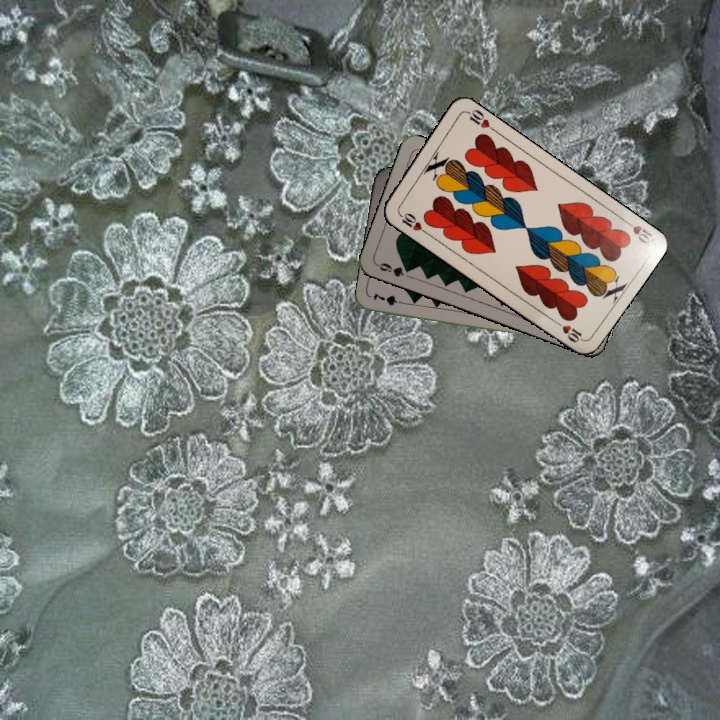G7: (369, 290, 410, 308)
G9: (373, 259, 414, 280)
H10: (619, 214, 655, 247), (394, 208, 429, 236)
